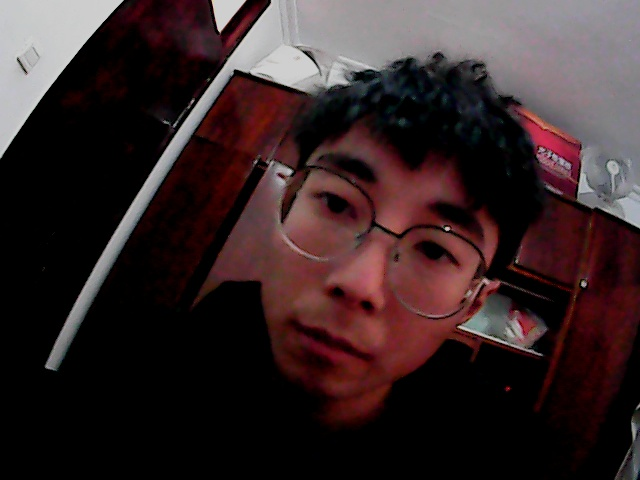face: (255, 50, 539, 406)
